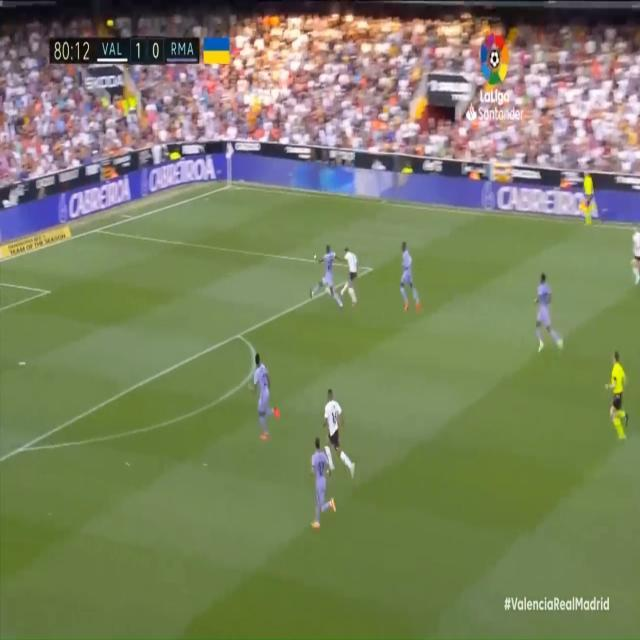player: (322, 384, 356, 482), (308, 435, 338, 532), (251, 350, 281, 446), (532, 272, 565, 355), (309, 239, 344, 313), (399, 241, 422, 315), (341, 246, 361, 313), (631, 223, 640, 290)
referee: (608, 344, 632, 450), (576, 165, 595, 229)
